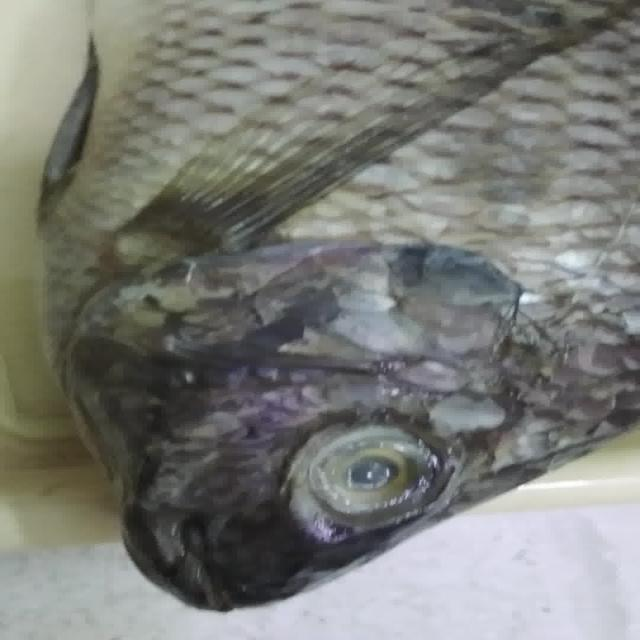Non-Fresh: (288, 412, 454, 524)
